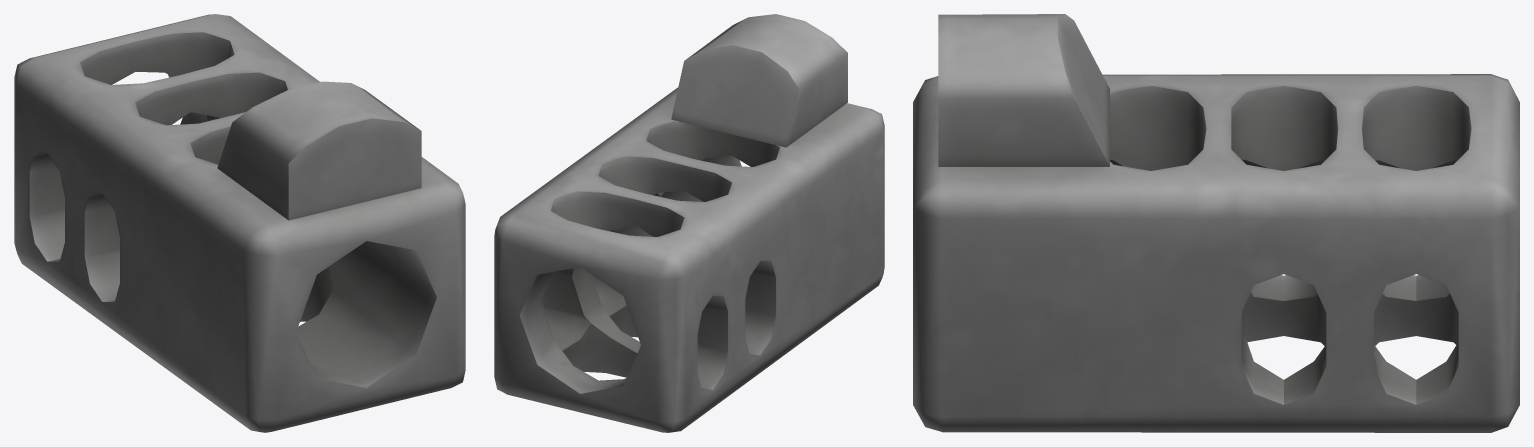
Rendered from IG_Acc_Muzzle_PST_DAM_1.fbx.
3 views of the same model, side by side, from view 1: azimuth 30°, elevation 25°; view 2: azimuth 150°, elevation 25°; view 3: azimuth 270°, elevation 25° (orthographic). The views are drawn at different scales.
Parts seen in each view (by area): view 1: Muzzle_PST_DAM_1; view 2: Muzzle_PST_DAM_1; view 3: Muzzle_PST_DAM_1.
Boxes of the visible parts, bbox=[...] form: Muzzle_PST_DAM_1: bbox=[14, 14, 465, 432]; Muzzle_PST_DAM_1: bbox=[494, 14, 884, 432]; Muzzle_PST_DAM_1: bbox=[913, 14, 1519, 432].
Bounding box in the file's own units: 0.0664 × 0.0837 × 0.1318.
